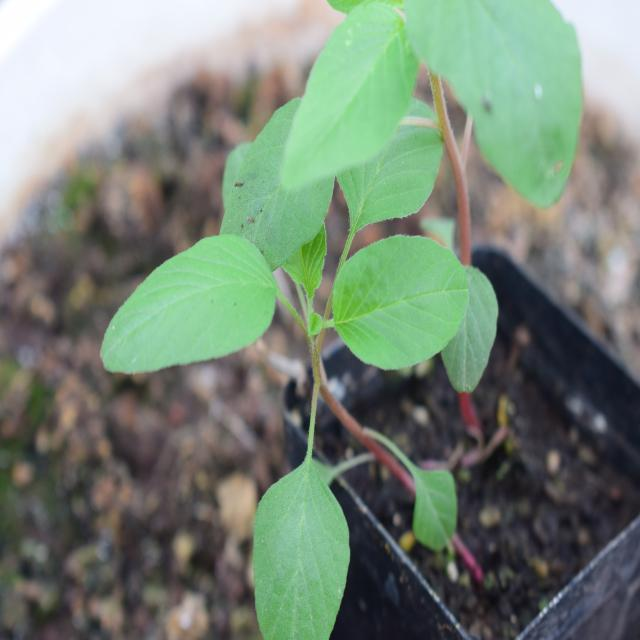pigweed: (119, 45, 497, 568)
